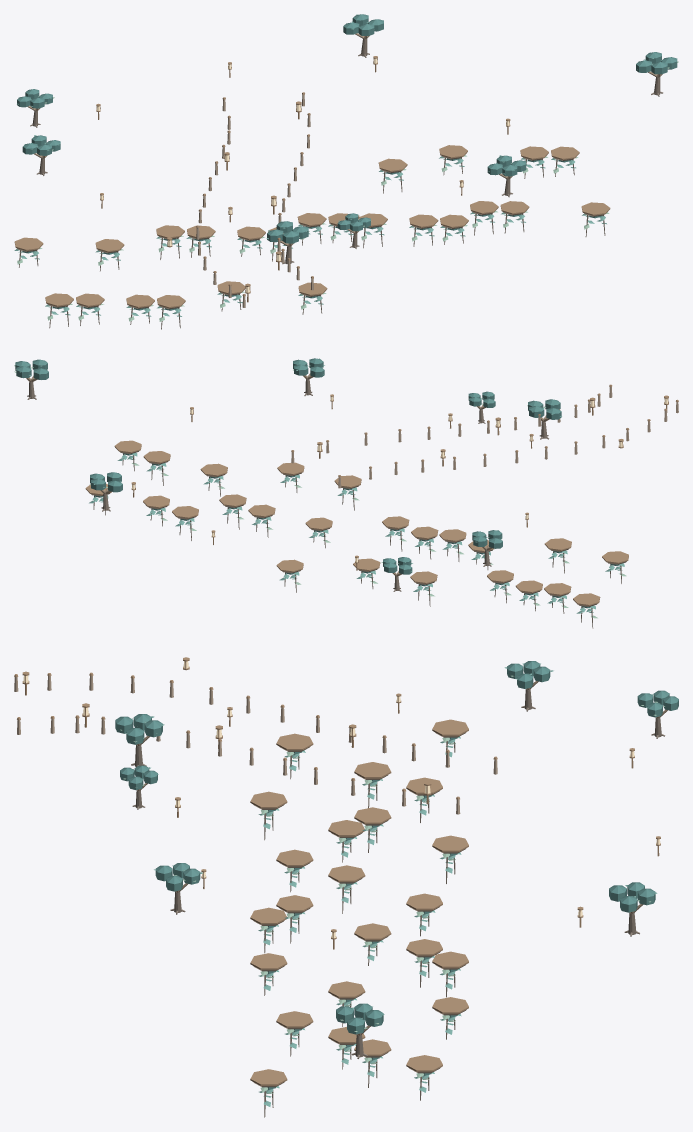
File: world14-ruins-environment.glb
3 renders of one model, top to bottom at view 1: azimuth 30°, elevation 25°; view 2: azimuth 150°, elevation 25°; view 3: azimuth 270°, elevation 25°, orthographic. The views are drawn at different scales.
Visible parts, largest first — view 1: w14-environment-overhead-bronze, w14-environment-main-leaf-deep, w14-environment-overhead-leaf-mid, w14-environment-overhead-bark, w14-environment-main-stone, w14-environment-main-bronze, w14-environment-main-bark, w14-environment-overhead-stone, w14-environment-overhead-leaf-pale, w14-environment-overhead-leaf-deep; view 2: w14-environment-overhead-bronze, w14-environment-main-leaf-deep, w14-environment-overhead-leaf-mid, w14-environment-main-stone, w14-environment-overhead-bark, w14-environment-main-bronze, w14-environment-overhead-stone, w14-environment-main-bark, w14-environment-overhead-leaf-deep; view 3: w14-environment-overhead-bronze, w14-environment-main-leaf-deep, w14-environment-overhead-leaf-mid, w14-environment-main-stone, w14-environment-overhead-bark, w14-environment-main-bronze, w14-environment-overhead-stone, w14-environment-main-bark, w14-environment-overhead-leaf-pale.
Boxes of the visible parts, bbox=[...] form: w14-environment-overhead-bronze: bbox=[14, 145, 610, 308]; w14-environment-main-leaf-deep: bbox=[17, 14, 677, 243]; w14-environment-overhead-leaf-mid: bbox=[14, 156, 606, 316]; w14-environment-overhead-bark: bbox=[19, 158, 605, 329]; w14-environment-main-stone: bbox=[196, 94, 313, 307]; w14-environment-main-bronze: bbox=[96, 56, 510, 302]; w14-environment-main-bark: bbox=[30, 38, 663, 264]; w14-environment-overhead-stone: bbox=[17, 156, 604, 309]; w14-environment-overhead-leaf-pale: bbox=[17, 155, 609, 321]; w14-environment-overhead-leaf-deep: bbox=[22, 158, 601, 310]; w14-environment-overhead-bronze: bbox=[85, 440, 628, 605]; w14-environment-main-leaf-deep: bbox=[15, 358, 561, 574]; w14-environment-overhead-leaf-mid: bbox=[89, 452, 624, 613]; w14-environment-main-stone: bbox=[291, 387, 678, 488]; w14-environment-overhead-bark: bbox=[93, 454, 621, 628]; w14-environment-main-bronze: bbox=[131, 384, 678, 570]; w14-environment-overhead-stone: bbox=[91, 451, 626, 606]; w14-environment-main-bark: bbox=[27, 378, 548, 591]; w14-environment-overhead-leaf-deep: bbox=[94, 453, 619, 608]; w14-environment-overhead-bronze: bbox=[250, 719, 468, 1085]; w14-environment-main-leaf-deep: bbox=[115, 661, 678, 1034]; w14-environment-overhead-leaf-mid: bbox=[258, 736, 461, 1106]; w14-environment-main-stone: bbox=[14, 675, 497, 814]; w14-environment-overhead-bark: bbox=[264, 741, 455, 1117]; w14-environment-main-bronze: bbox=[14, 657, 660, 949]; w14-environment-overhead-stone: bbox=[253, 732, 466, 1087]; w14-environment-main-bark: bbox=[131, 689, 665, 1058]; w14-environment-overhead-leaf-pale: bbox=[260, 737, 455, 1093].
Size of the model in its own units: 70.77 by 16.87 by 51.22.
